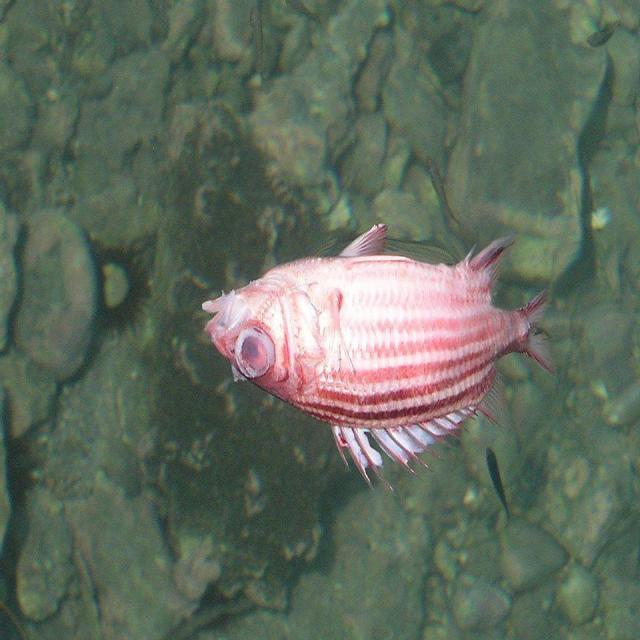Asker Baligi: (200, 220, 557, 494)
